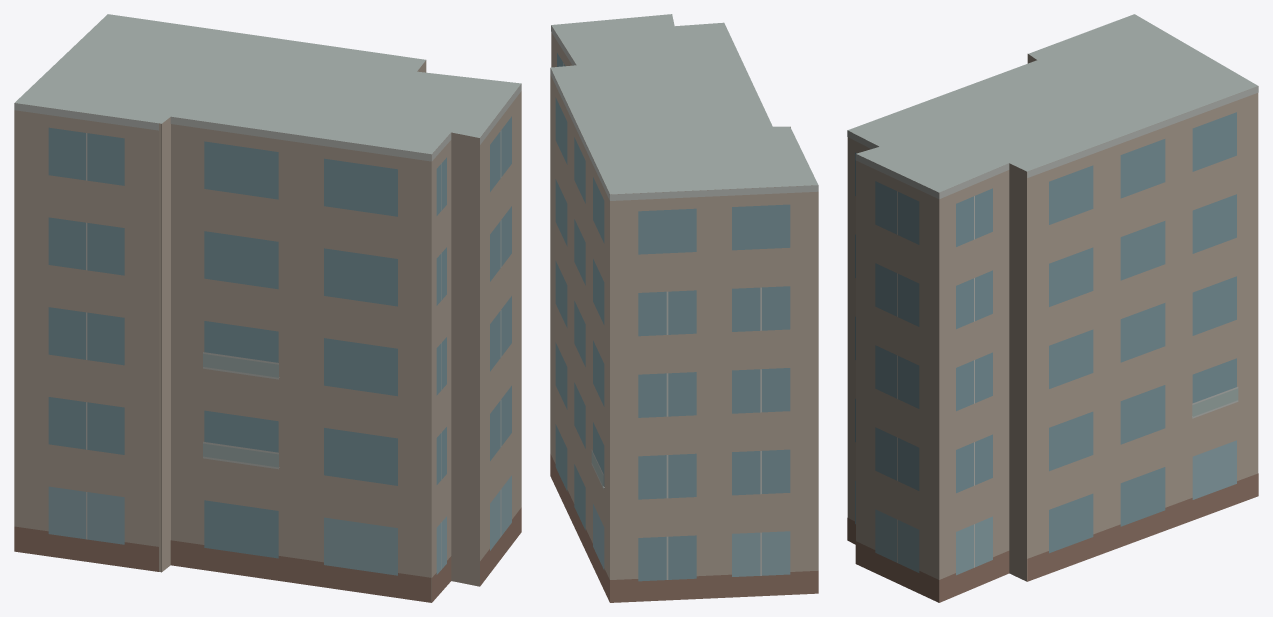
File: survey-upis-32727618.glb
The picture shows the model from 3 angles, left to right: view 1: azimuth 30°, elevation 25°; view 2: azimuth 150°, elevation 25°; view 3: azimuth 270°, elevation 25°; orthographic projection. The views are drawn at different scales.
Visible parts, largest first — view 1: survey-upis-32727618.tmp; view 2: survey-upis-32727618.tmp; view 3: survey-upis-32727618.tmp.
Part boxes in pixels (left/top/right/bottom): survey-upis-32727618.tmp: left=14, top=14, right=521, bottom=602; survey-upis-32727618.tmp: left=550, top=14, right=818, bottom=602; survey-upis-32727618.tmp: left=847, top=14, right=1258, bottom=602.
Bounding box in the file's own units: 14.07 × 15.05 × 13.67.
